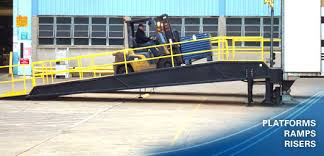Pallet Jack: (111, 12, 208, 73)
Yard Ramp: (1, 33, 280, 108)
